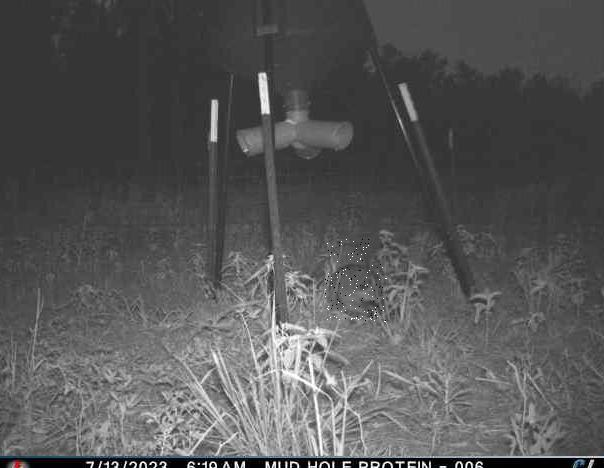Raccoon: (325, 263, 388, 323), (326, 240, 370, 273)
